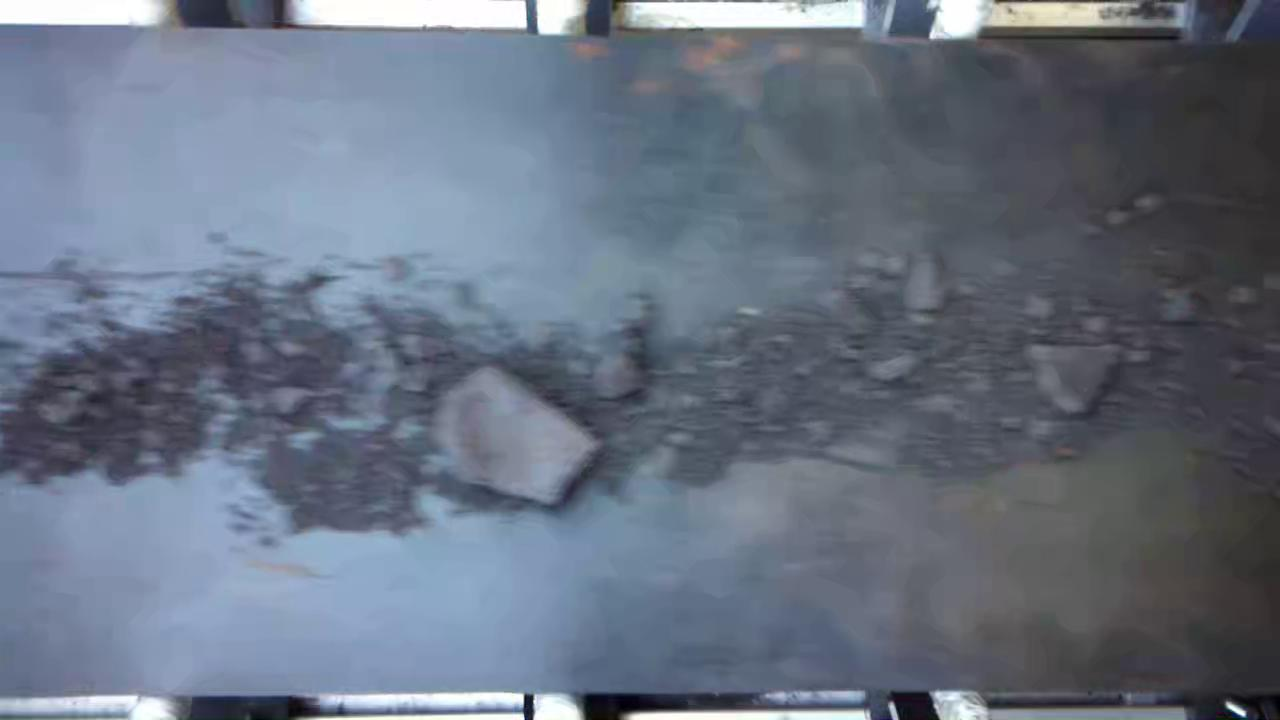conveyor: (1, 48, 1280, 684)
